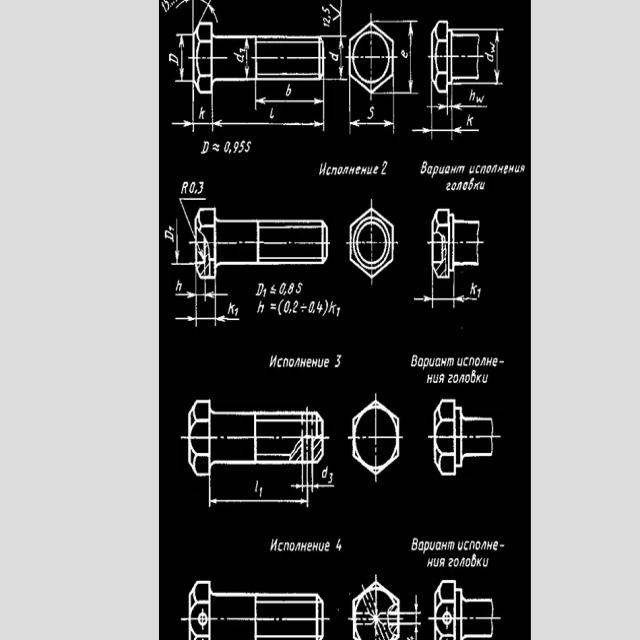marking_line: (172, 93, 327, 133), (210, 95, 327, 135), (170, 281, 241, 330), (414, 95, 482, 141), (207, 477, 311, 506), (254, 82, 329, 111), (346, 95, 398, 136), (395, 17, 419, 97), (412, 279, 476, 309), (326, 0, 348, 82), (205, 281, 243, 328), (449, 87, 481, 142), (480, 27, 506, 87), (171, 218, 195, 268), (175, 277, 198, 327), (412, 88, 434, 138), (174, 0, 220, 23), (450, 85, 489, 111), (171, 90, 195, 132), (326, 34, 346, 81), (175, 31, 192, 85), (452, 273, 477, 308), (413, 273, 434, 310), (179, 193, 194, 237), (311, 465, 334, 493), (172, 276, 197, 301), (425, 94, 451, 115), (290, 464, 305, 493), (244, 39, 250, 79)
numeric: (379, 161, 388, 177), (188, 181, 196, 195), (335, 352, 342, 368), (321, 4, 331, 14), (401, 48, 409, 60), (223, 141, 230, 154), (233, 140, 240, 153), (308, 300, 315, 313), (316, 301, 323, 314), (198, 181, 204, 196), (279, 281, 285, 296), (284, 299, 290, 313), (328, 470, 334, 484), (288, 282, 294, 294), (240, 140, 245, 154), (293, 301, 298, 314), (322, 17, 330, 25), (476, 287, 481, 299), (337, 537, 341, 551), (168, 225, 175, 232), (259, 486, 263, 498), (336, 306, 340, 317), (235, 306, 239, 317), (263, 289, 267, 298), (238, 48, 245, 53), (323, 23, 331, 27)
special_symbol: (328, 3, 339, 21), (277, 298, 284, 316), (322, 298, 329, 316), (213, 144, 221, 153), (301, 303, 308, 313), (270, 284, 276, 294), (270, 302, 276, 311)
